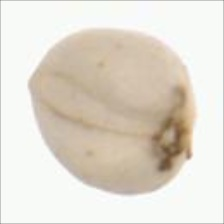L5: (27, 65, 156, 140), (152, 85, 198, 172), (23, 61, 50, 108)
L6: (25, 24, 198, 198)
